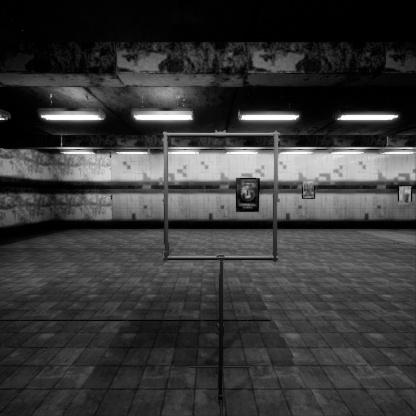gate: (163, 154, 290, 284)
